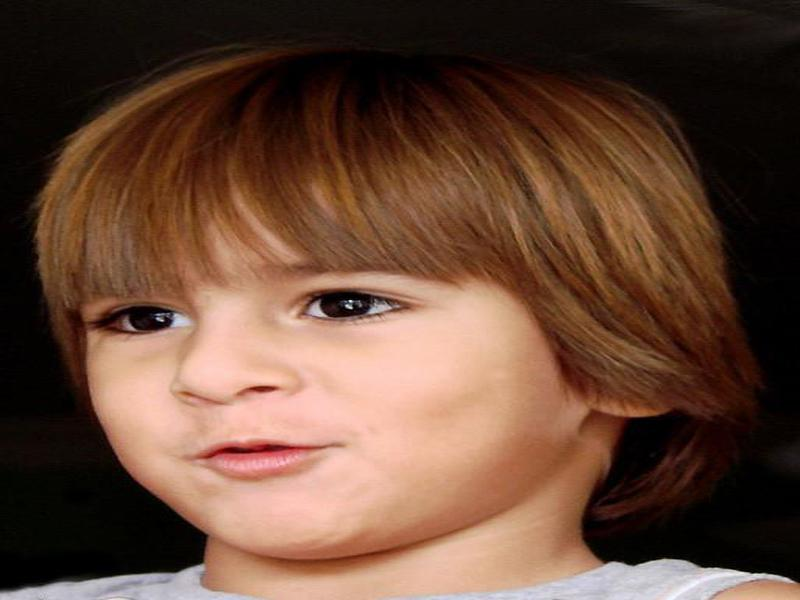person: (34, 31, 785, 600)
